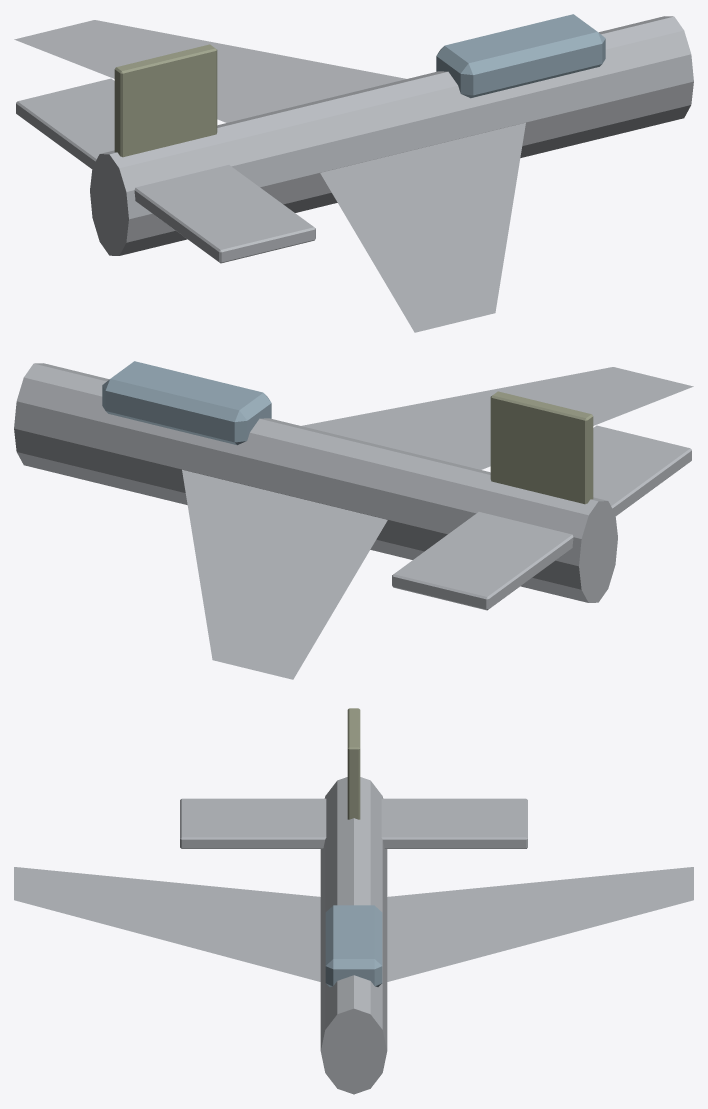
The model's file is aircraft.glb.
3 views of the same model, one above another, from view 1: azimuth 30°, elevation 25°; view 2: azimuth 150°, elevation 25°; view 3: azimuth 270°, elevation 25° (orthographic). The views are drawn at different scales.
Parts seen in each view (by area): view 1: Fuselage, Swept wing, Swept wing.001, Tailplane, Vertical tail, Cockpit, Tailplane.001; view 2: Fuselage, Swept wing.001, Swept wing, Tailplane.001, Vertical tail, Cockpit, Tailplane; view 3: Swept wing, Swept wing.001, Fuselage, Tailplane, Tailplane.001, Cockpit, Vertical tail.
Boxes of the visible parts, box(x1,y1,x2,y2) form: Fuselage: box(90, 16, 693, 255); Swept wing: box(320, 122, 525, 332); Swept wing.001: box(14, 20, 405, 122); Tailplane: box(134, 165, 315, 263); Vertical tail: box(114, 44, 217, 157); Cockpit: box(436, 14, 605, 98); Tailplane.001: box(16, 78, 114, 168); Fuselage: box(14, 363, 617, 602); Swept wing.001: box(182, 469, 387, 679); Swept wing: box(302, 367, 693, 469); Tailplane.001: box(392, 512, 573, 610); Vertical tail: box(490, 391, 593, 504); Cockpit: box(102, 361, 271, 445); Tailplane: box(593, 425, 691, 515); Swept wing: box(14, 867, 320, 981); Swept wing.001: box(387, 867, 693, 981); Fuselage: box(320, 777, 387, 1094); Tailplane: box(180, 798, 326, 848); Tailplane.001: box(381, 798, 527, 848); Cockpit: box(325, 905, 382, 986); Vertical tail: box(347, 708, 360, 819).
Size of the model in its own units: 0.35 by 0.109 by 0.43.
